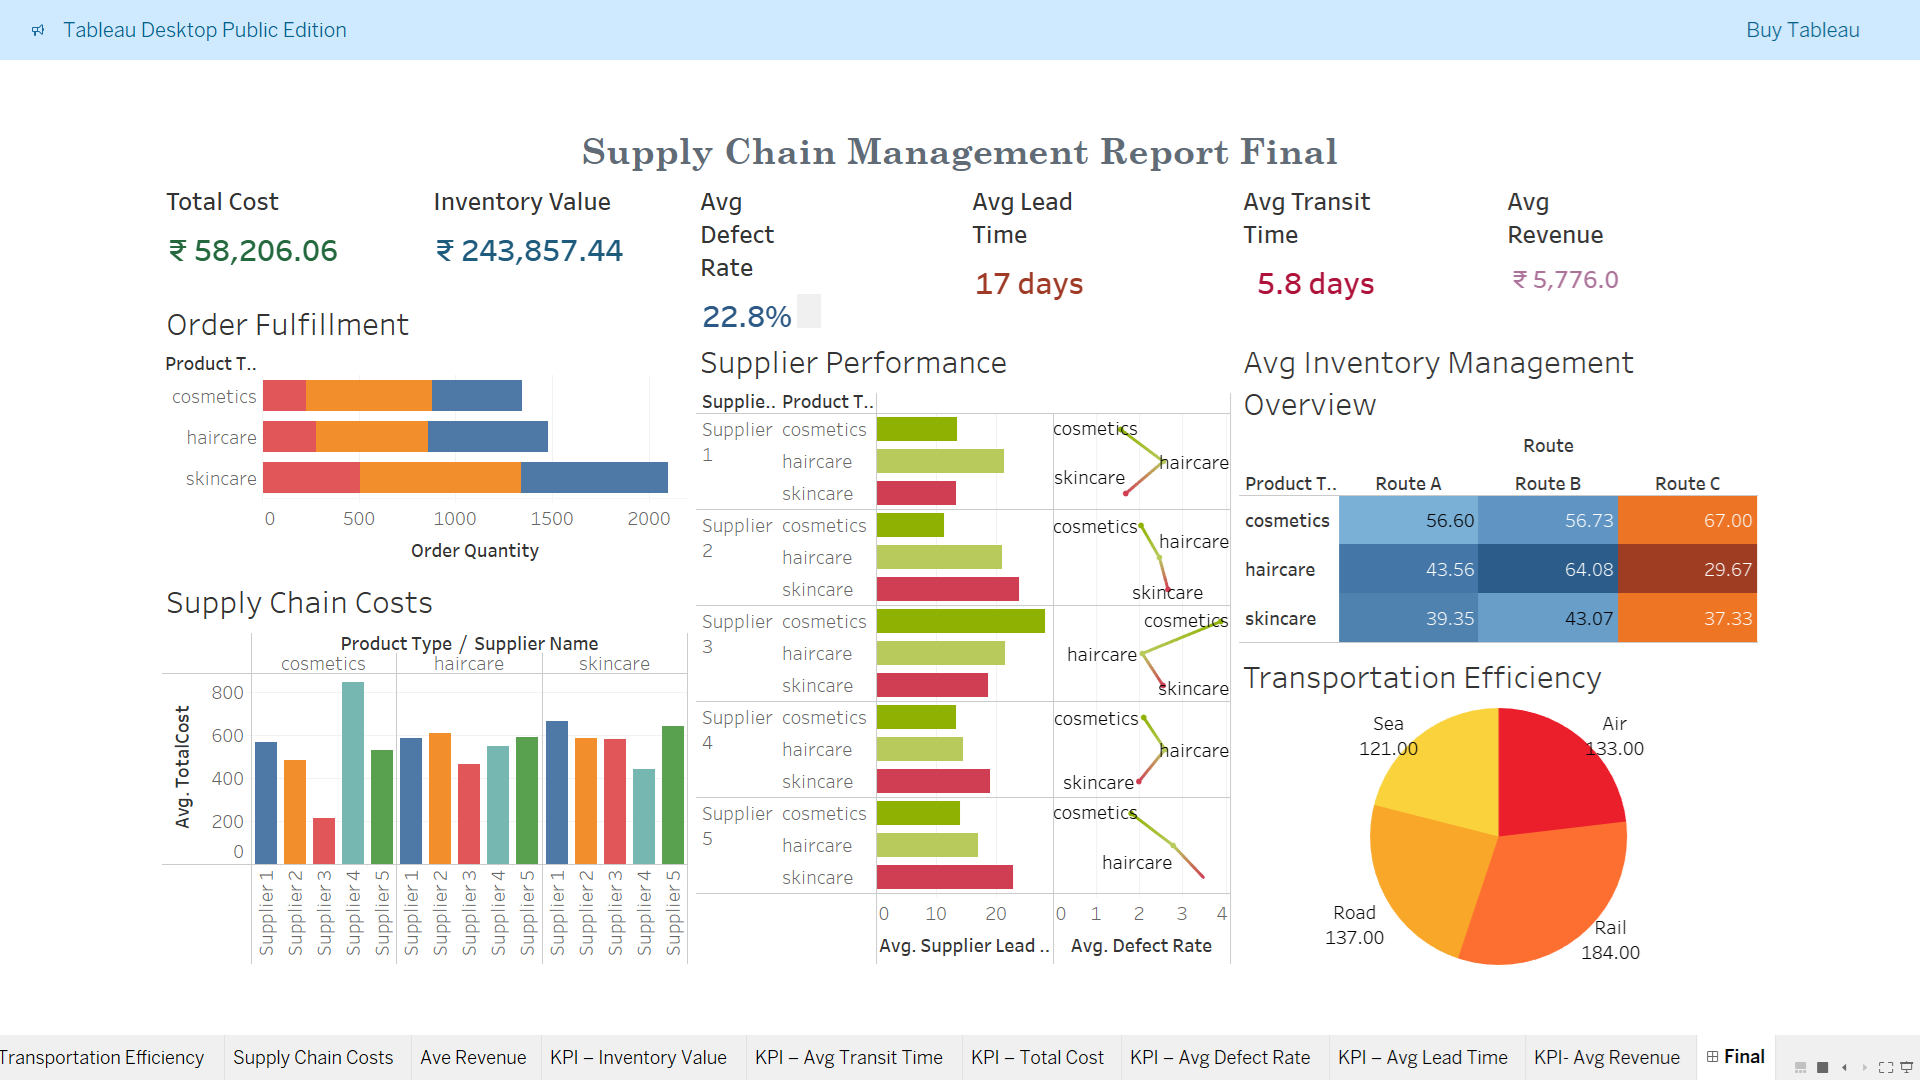

This screenshot's page, from the dashboard's own definition file:
{"tool":"tableau","page":{"name":"Final","canvas":[1620,860],"ordinal":0},"visuals":[{"type":"title","box":[8,8,1604,51]},{"type":"worksheet","title":"KPI – Total Cost","mark":"Automatic","box":[8,59,267.1,118]},{"type":"worksheet","title":"KPI – Inventory Value","mark":"Text","box":[275.1,59,267.1,118]},{"type":"worksheet","title":"KPI – Avg Defect Rate","mark":"Automatic","box":[542.3,59,271.6,156]},{"type":"worksheet","title":"KPI – Avg Lead Time","mark":"Automatic","box":[813.9,59,271.6,156]},{"type":"worksheet","title":"KPI – Avg Transit Time","mark":"Text","box":[1085.4,59,263.3,156]},{"type":"worksheet","title":"KPI- Avg Revenue","mark":"Automatic","box":[1348.7,59,263.3,156]},{"type":"worksheet","title":"Order Fulfillment","mark":"Automatic","rows":["ProductType"],"cols":["OrderQuantity"],"box":[8,177,534.3,278.5]},{"type":"worksheet","title":"Supplier Performance","mark":"Automatic","rows":["SupplierName","ProductType"],"cols":["SupplierLeadTime","DefectRate"],"box":[542.3,215,543.2,637]},{"type":"worksheet","title":"Inventory Management Overview","mark":"Square","rows":["ProductType"],"cols":["Route"],"box":[1085.4,215,526.5,315]},{"type":"worksheet","title":"Supply Chain Costs","mark":"Automatic","rows":["Calculation_387591065837027333"],"cols":["ProductType","SupplierName"],"box":[8,455.5,534.3,396.5]},{"type":"worksheet","title":"Transportation Efficiency","mark":"Pie","box":[1085.4,530,526.5,322]}]}

Visuals, with their boxes on the page's 1620x860 design canvas (x1, y1, x2, y2). These are canvas units, not pixel positions in the 1920x1080 screenshot, which may show the page scaled, cropped or inside an application window:
title: <bbox>8, 8, 1612, 59</bbox>
"KPI – Total Cost" worksheet: <bbox>8, 59, 275, 177</bbox>
"KPI – Inventory Value" worksheet (Text marks): <bbox>275, 59, 542, 177</bbox>
"KPI – Avg Defect Rate" worksheet: <bbox>542, 59, 814, 215</bbox>
"KPI – Avg Lead Time" worksheet: <bbox>814, 59, 1086, 215</bbox>
"KPI – Avg Transit Time" worksheet (Text marks): <bbox>1085, 59, 1349, 215</bbox>
"KPI- Avg Revenue" worksheet: <bbox>1349, 59, 1612, 215</bbox>
"Order Fulfillment" worksheet: <bbox>8, 177, 542, 456</bbox>
"Supplier Performance" worksheet: <bbox>542, 215, 1086, 852</bbox>
"Inventory Management Overview" worksheet (Square marks): <bbox>1085, 215, 1612, 530</bbox>
"Supply Chain Costs" worksheet: <bbox>8, 456, 542, 852</bbox>
"Transportation Efficiency" worksheet (Pie marks): <bbox>1085, 530, 1612, 852</bbox>
